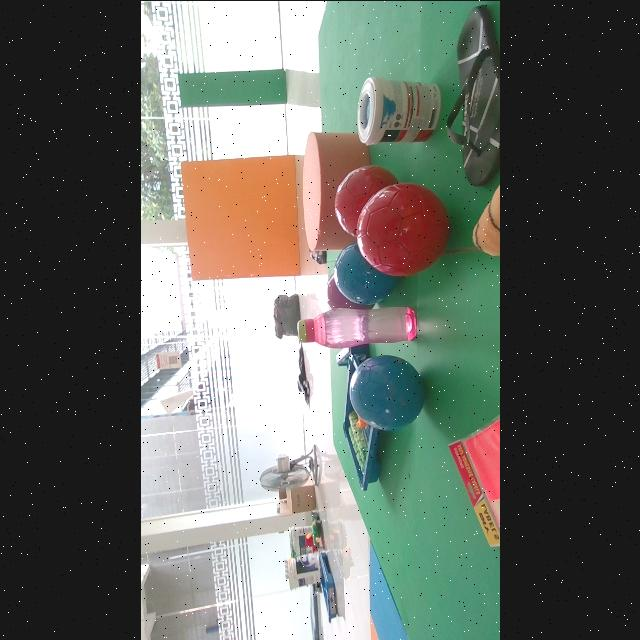B: (348, 354, 424, 430), (335, 241, 397, 303)
P: (327, 274, 373, 308)
R: (356, 182, 448, 276), (334, 164, 397, 236)
